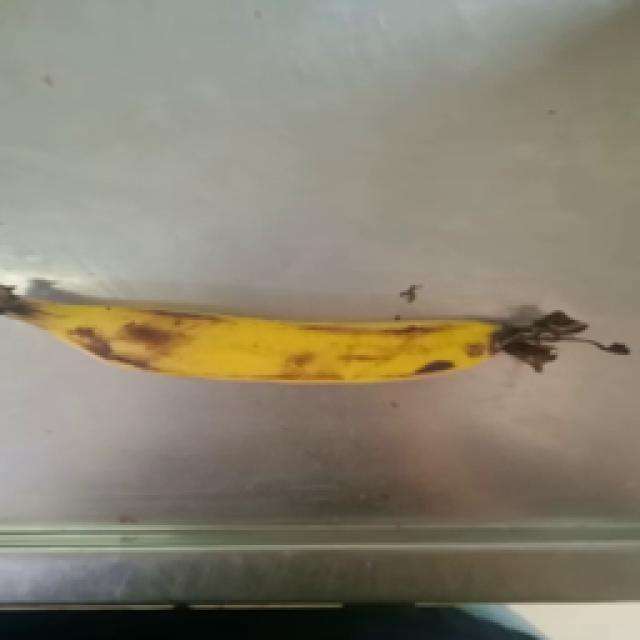Rotten_Banana: (1, 291, 632, 385)
